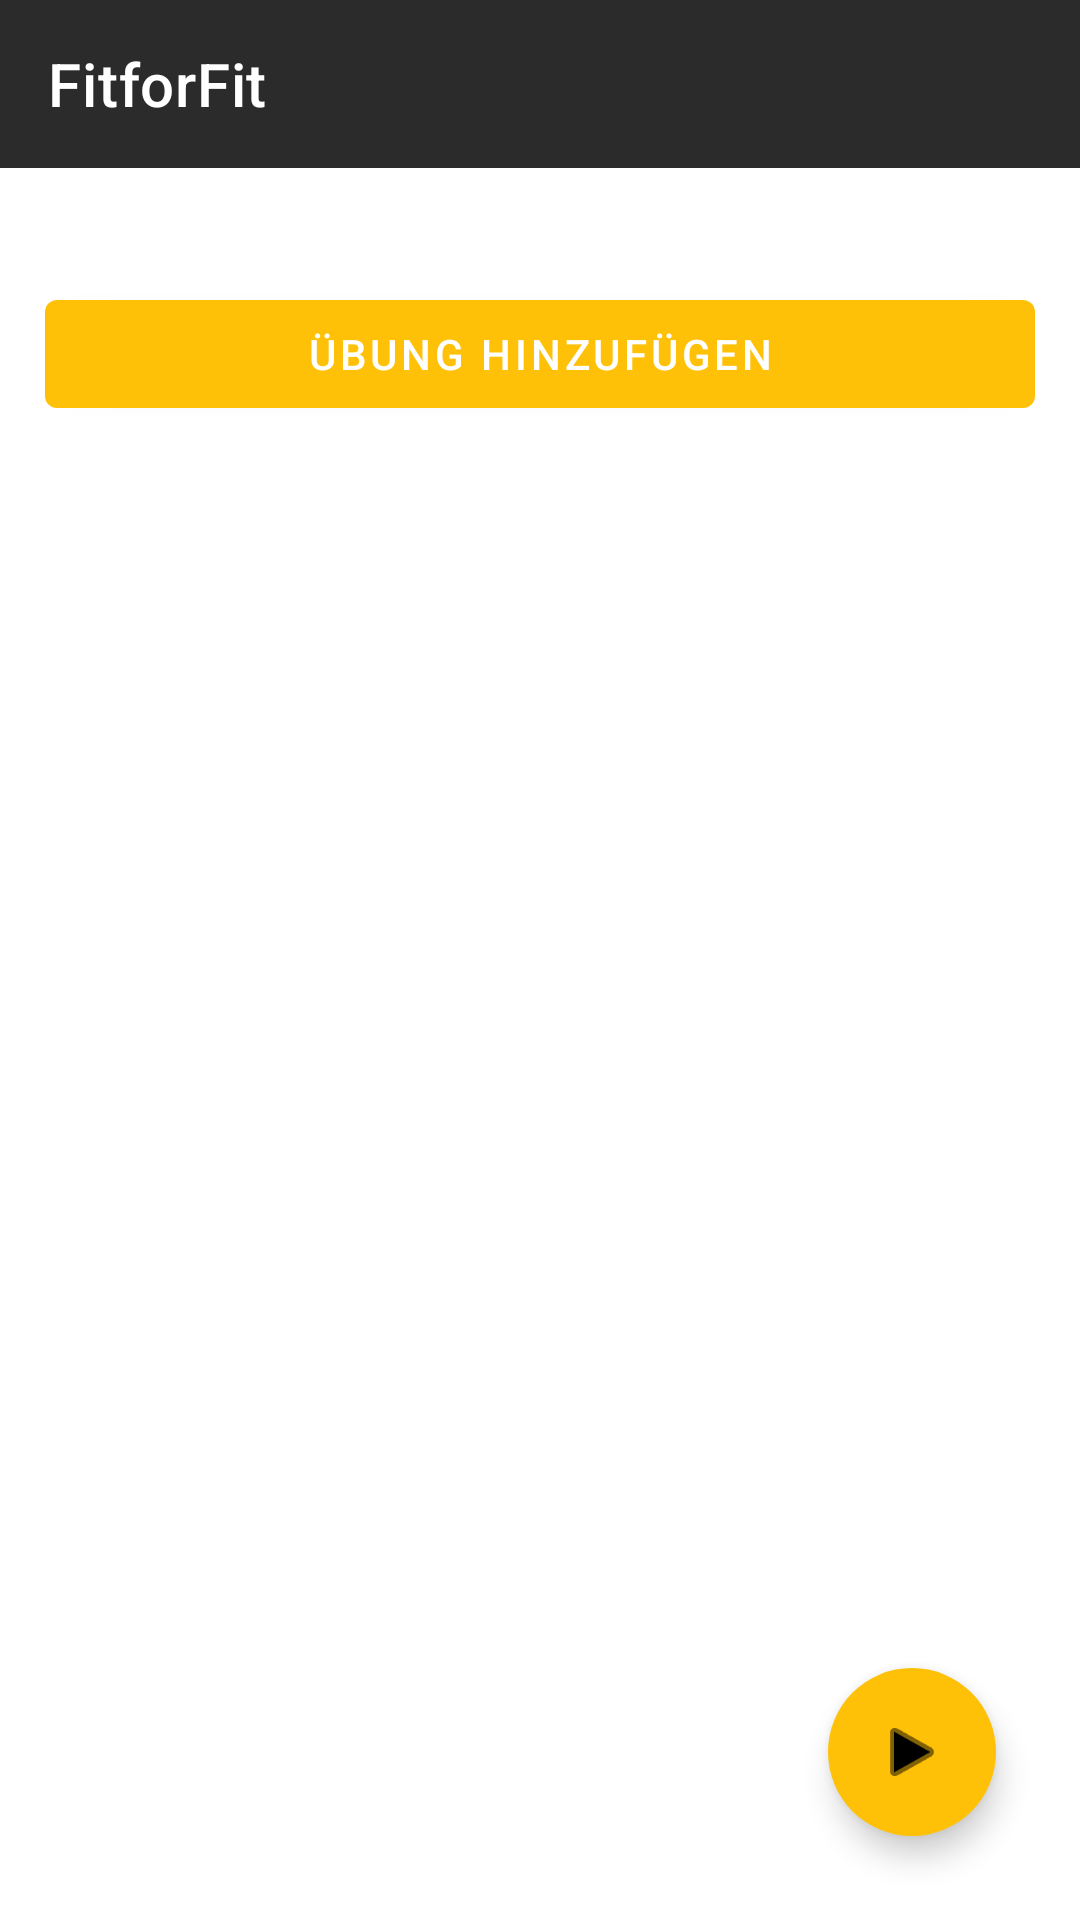

Screen size 1080x1920. Icon name, then its box in pixels as (left=x1, top=y1, right=x2, bottom=y2):
play: (left=828, top=1668, right=996, bottom=1836)
